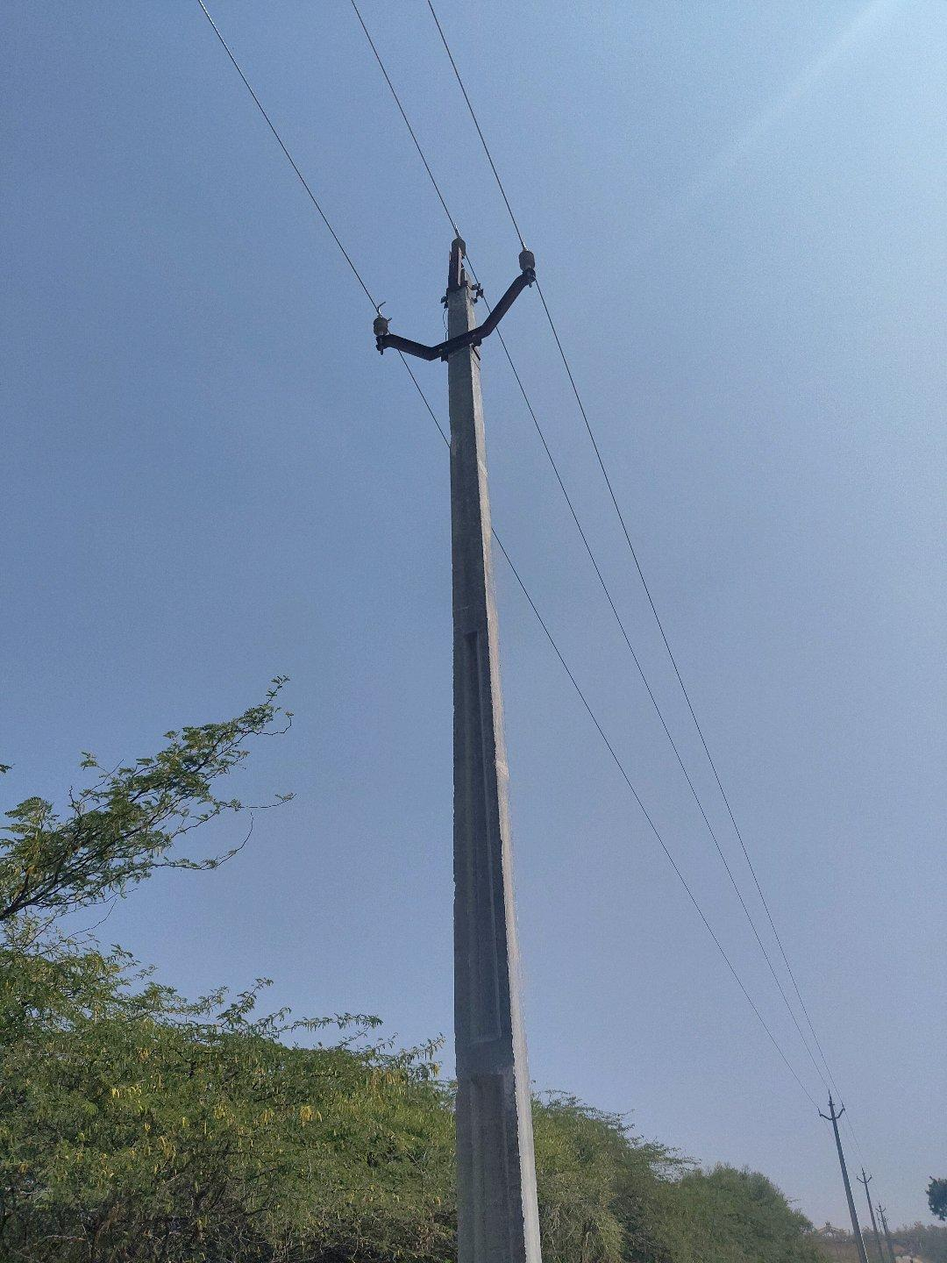{"0" "insulator", "1" "pole", "2" "crossarm", "3" "conductor", "4" "street_: (374, 239, 540, 1262), (816, 1095, 869, 1262)
